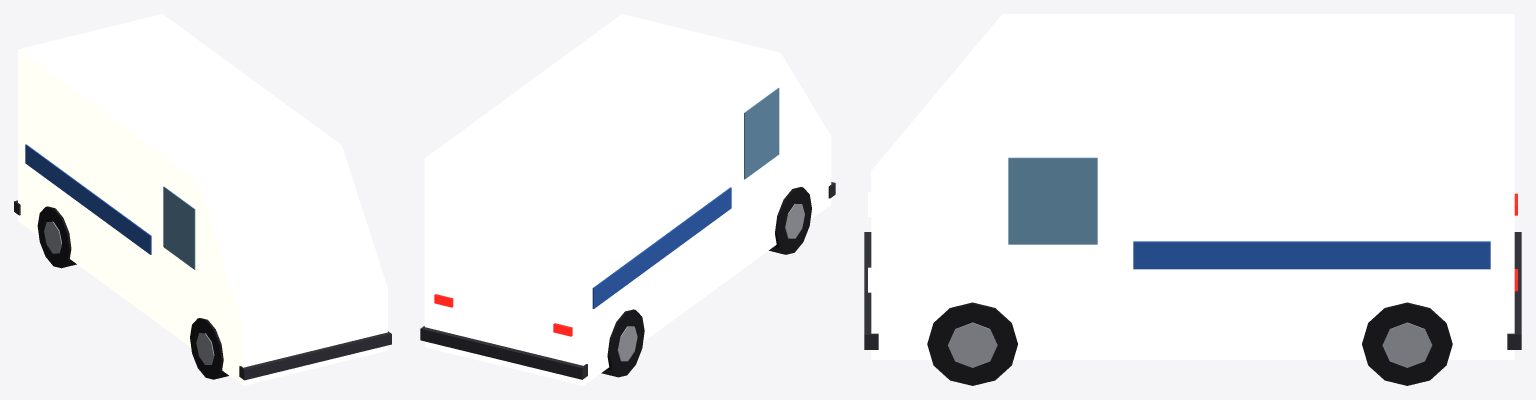
Rendered from delivery_van.glb.
3 views of the same model, side by side, from view 1: azimuth 30°, elevation 25°; view 2: azimuth 150°, elevation 25°; view 3: azimuth 270°, elevation 25° (orthographic). The views are drawn at different scales.
Visible parts, largest first — view 1: delivery_van; view 2: delivery_van; view 3: delivery_van.
Part boxes in pixels (x1,y1,x2,y2): delivery_van: [14, 14, 391, 385]; delivery_van: [420, 14, 835, 385]; delivery_van: [864, 14, 1521, 385].
Bounding box in the file's own units: 2.08 × 2.5 × 5.52.
